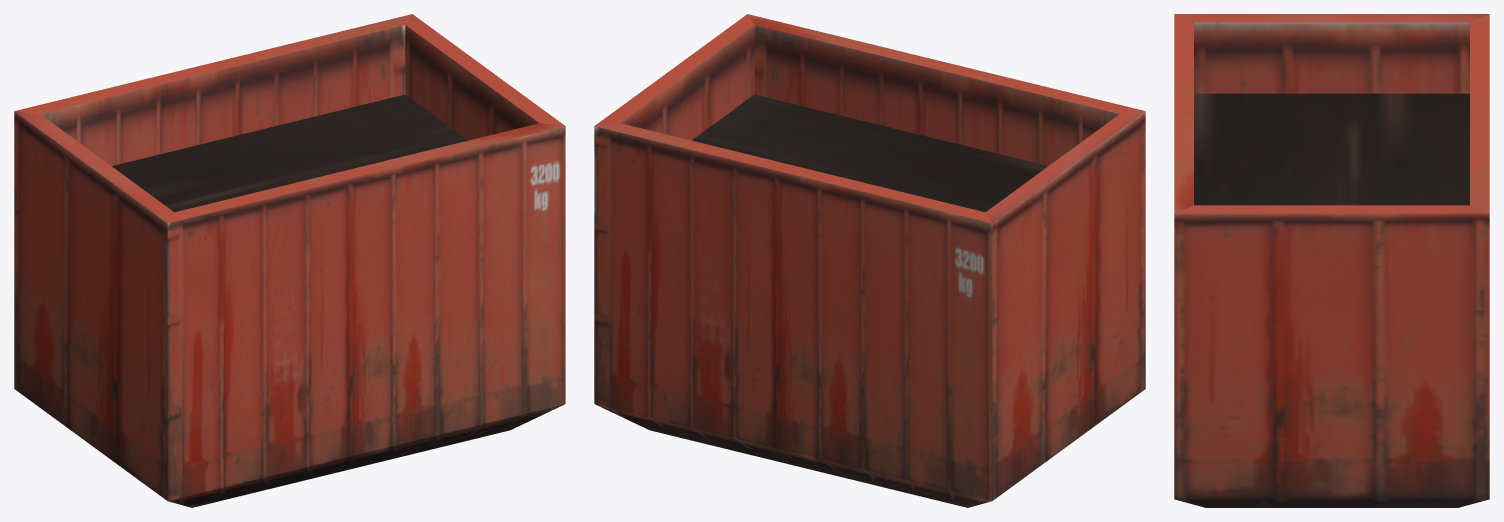
The model's file is bigbin.fbx.
3 views of the same model, side by side, from view 1: azimuth 30°, elevation 25°; view 2: azimuth 150°, elevation 25°; view 3: azimuth 270°, elevation 25° (orthographic). The views are drawn at different scales.
Parts seen in each view (by area): view 1: bigbin; view 2: bigbin; view 3: bigbin.
Part boxes in pixels (x1,y1,x2,y2): bigbin: [14, 14, 565, 507]; bigbin: [594, 14, 1145, 507]; bigbin: [1174, 14, 1489, 507].
Bounding box in the file's own units: 300 × 220 × 200.
Materials: 1 (1 with a texture image).
